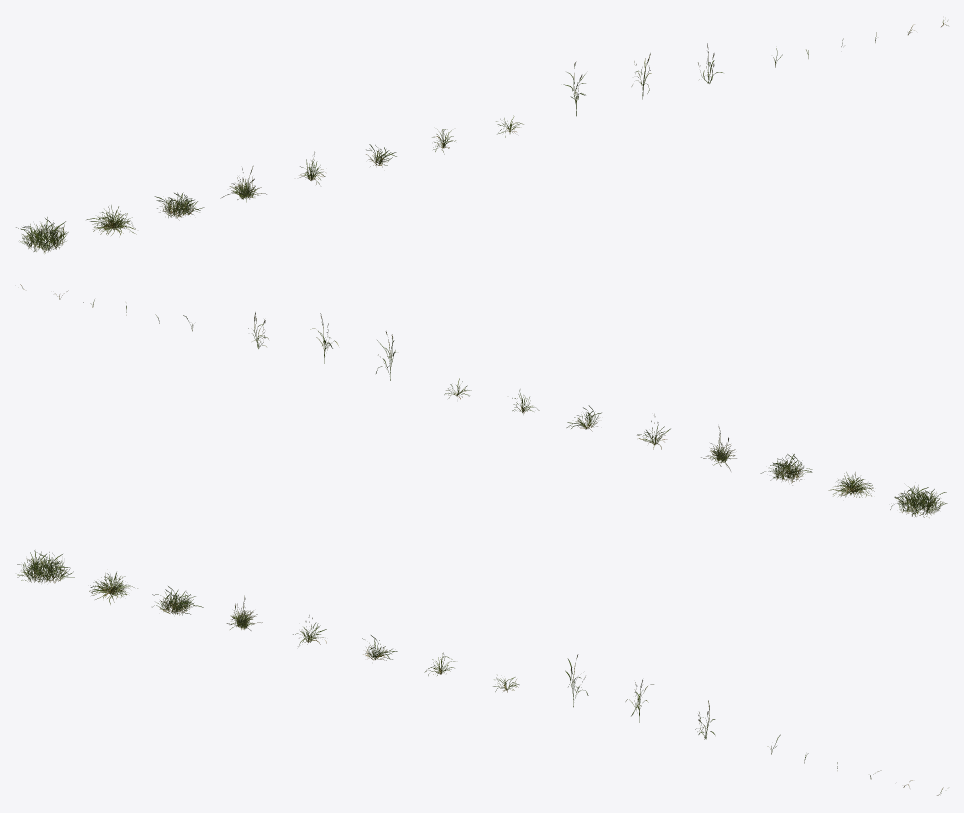
The model's file is grass_medium_01.glb.
3 views of the same model, one above another, from view 1: azimuth 30°, elevation 25°; view 2: azimuth 150°, elevation 25°; view 3: azimuth 330°, elevation 25° (orthographic).
Parts seen in each view (by area): view 1: grass_medium_01_large_a_LOD0, grass_medium_01_large_c_LOD0, grass_medium_01_large_b_LOD0; view 2: grass_medium_01_large_a_LOD0, grass_medium_01_large_c_LOD0, grass_medium_01_large_b_LOD0; view 3: grass_medium_01_large_a_LOD0, grass_medium_01_large_c_LOD0, grass_medium_01_large_b_LOD0.
Part boxes in pixels (bbox=[...]): grass_medium_01_large_a_LOD0: bbox=[16, 217, 68, 253]; grass_medium_01_large_c_LOD0: bbox=[154, 192, 204, 220]; grass_medium_01_large_b_LOD0: bbox=[86, 205, 136, 235]; grass_medium_01_large_a_LOD0: bbox=[890, 485, 947, 517]; grass_medium_01_large_c_LOD0: bbox=[760, 454, 812, 485]; grass_medium_01_large_b_LOD0: bbox=[828, 472, 874, 497]; grass_medium_01_large_a_LOD0: bbox=[17, 550, 74, 583]; grass_medium_01_large_c_LOD0: bbox=[152, 586, 203, 615]; grass_medium_01_large_b_LOD0: bbox=[89, 572, 137, 604].
Bounding box in the file's own units: 5.6 × 0.3418 × 0.3266.
1 material, 1 textured.
